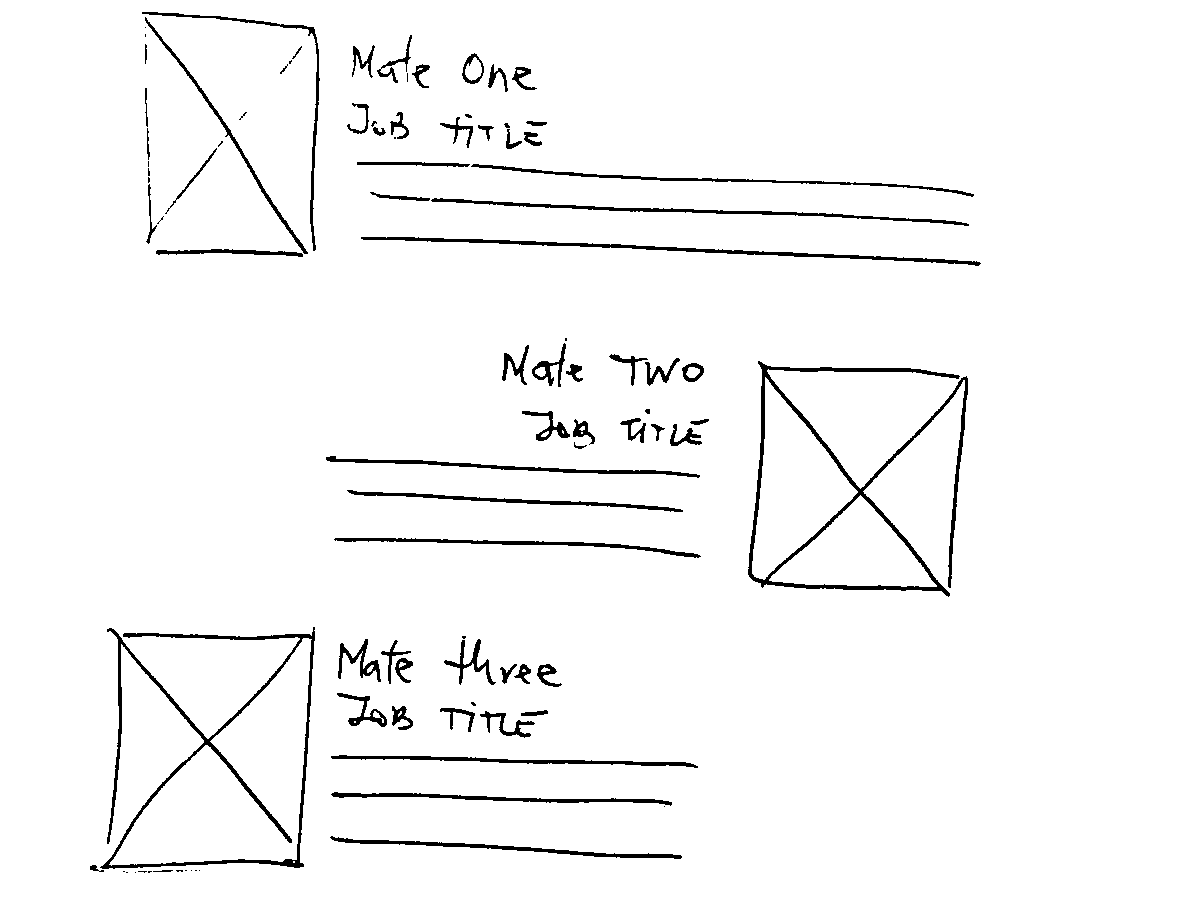Heading: (438, 700, 554, 747), (441, 109, 549, 156), (617, 409, 716, 442)
Image: (744, 353, 974, 597), (91, 626, 316, 870), (138, 6, 324, 260)
Paragraph: (351, 153, 985, 275), (320, 448, 710, 566), (321, 747, 702, 867)
